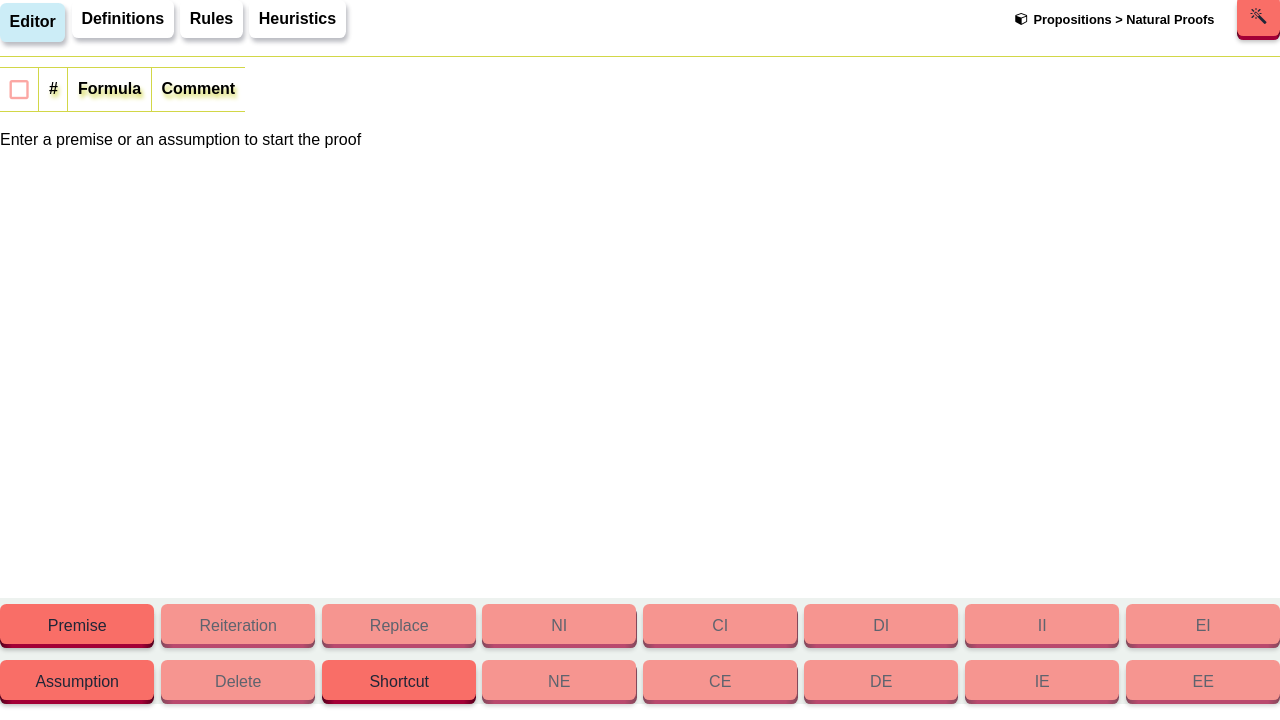
Test case: Natural Proofs Editor tests: › on click Enter premise button the popup is appeared
Click the button titled "Enter a premise" at (77, 628), box [0,608,154,648]
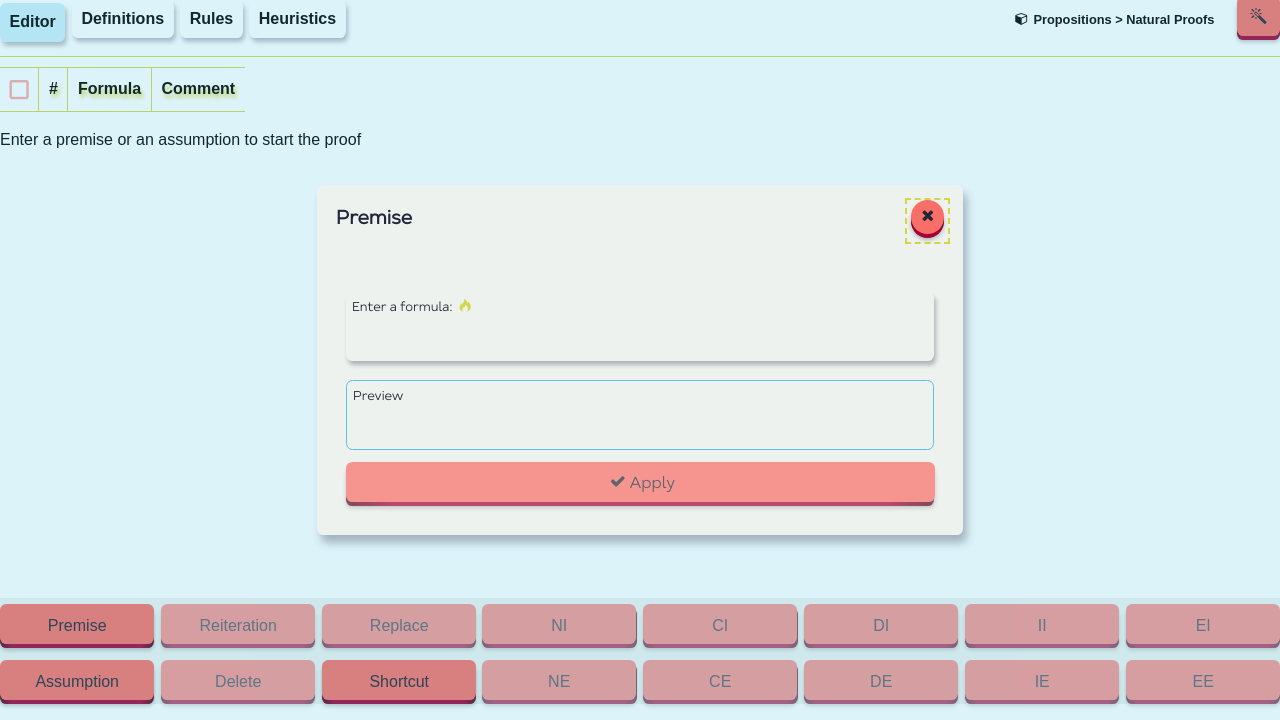
Expected: the dialog is shown, [317,185,963,535]
Expected: the form is shown, [346,292,934,506]
